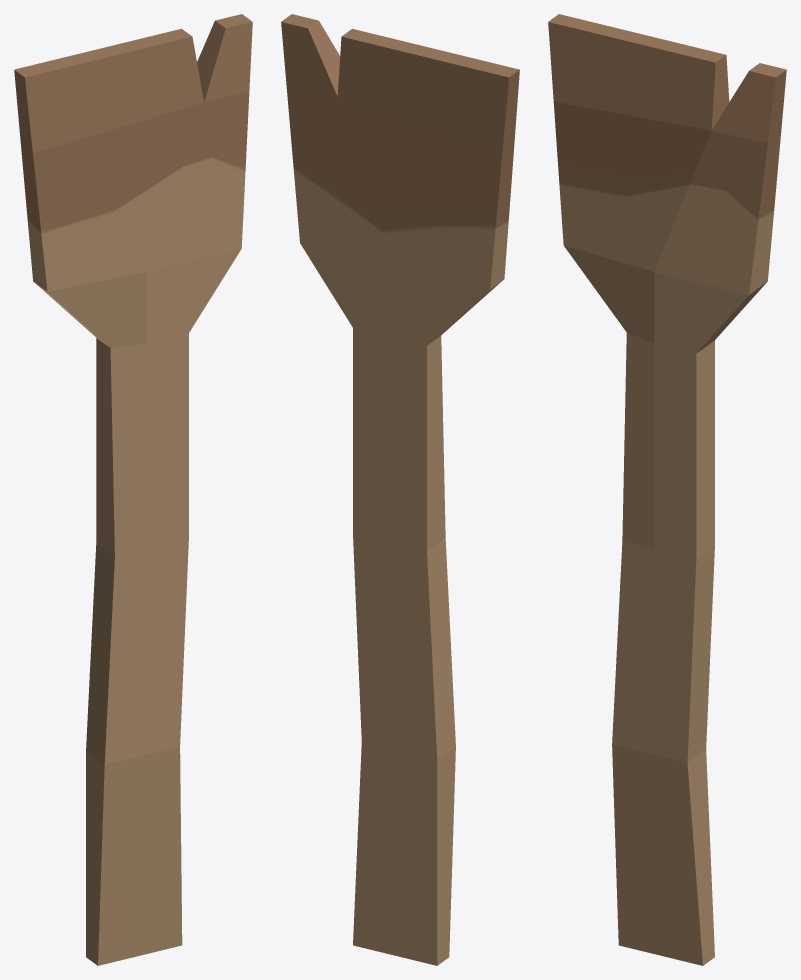
The model's file is SM_Spatula.fbx.
3 views of the same model, side by side, from view 1: azimuth 30°, elevation 25°; view 2: azimuth 150°, elevation 25°; view 3: azimuth 330°, elevation 25° (orthographic).
Parts seen in each view (by area): view 1: SM_Spatula; view 2: SM_Spatula; view 3: SM_Spatula.
Boxes of the visible parts, bbox=[...] form: SM_Spatula: bbox=[14, 14, 252, 965]; SM_Spatula: bbox=[281, 14, 519, 965]; SM_Spatula: bbox=[548, 14, 786, 965].
Bounding box in the file's own units: 12.91 × 49.01 × 1.83.
